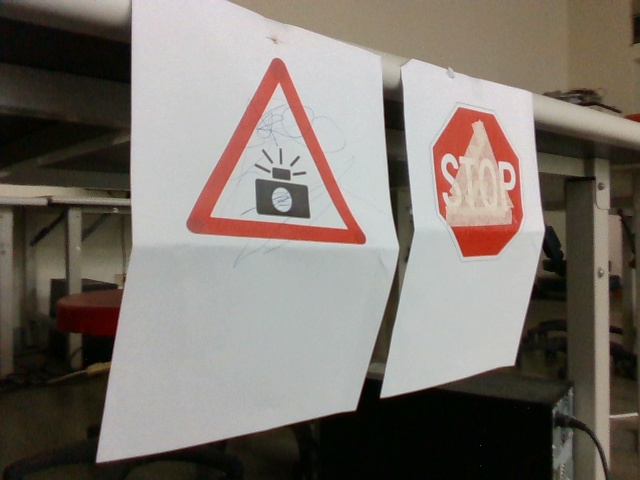camera: (185, 60, 364, 246)
stop: (433, 103, 524, 259)
